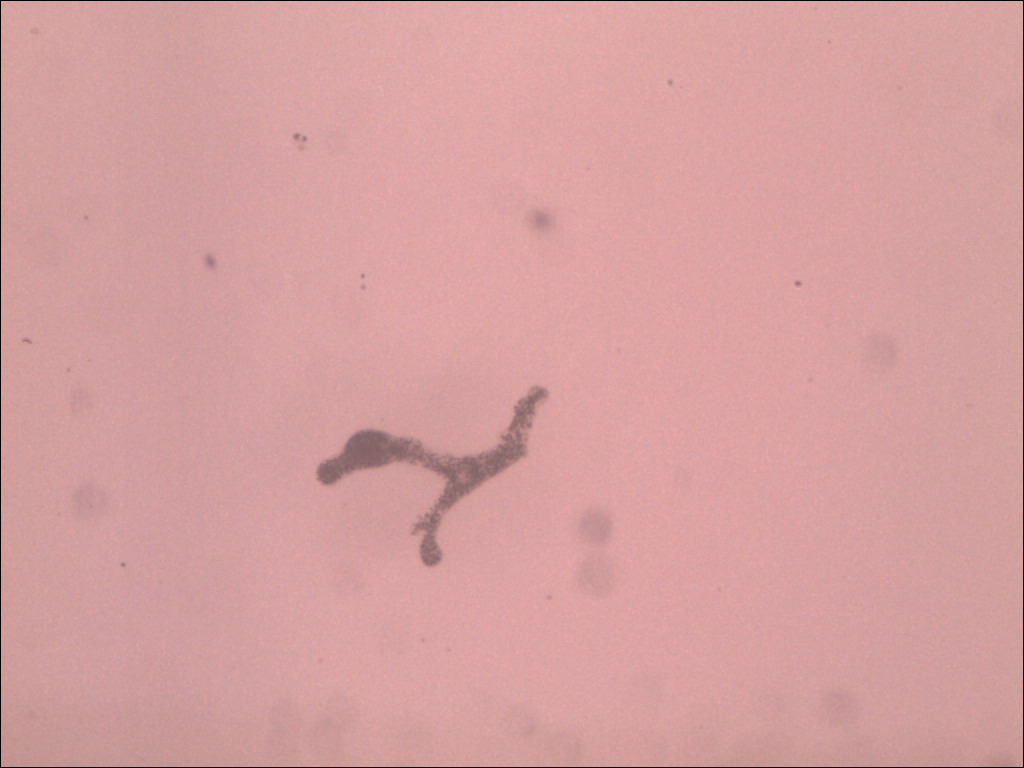amoeba: (312, 378, 558, 573)
